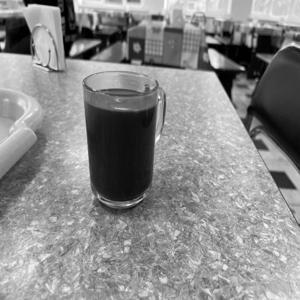coffee: (67, 54, 192, 214)
